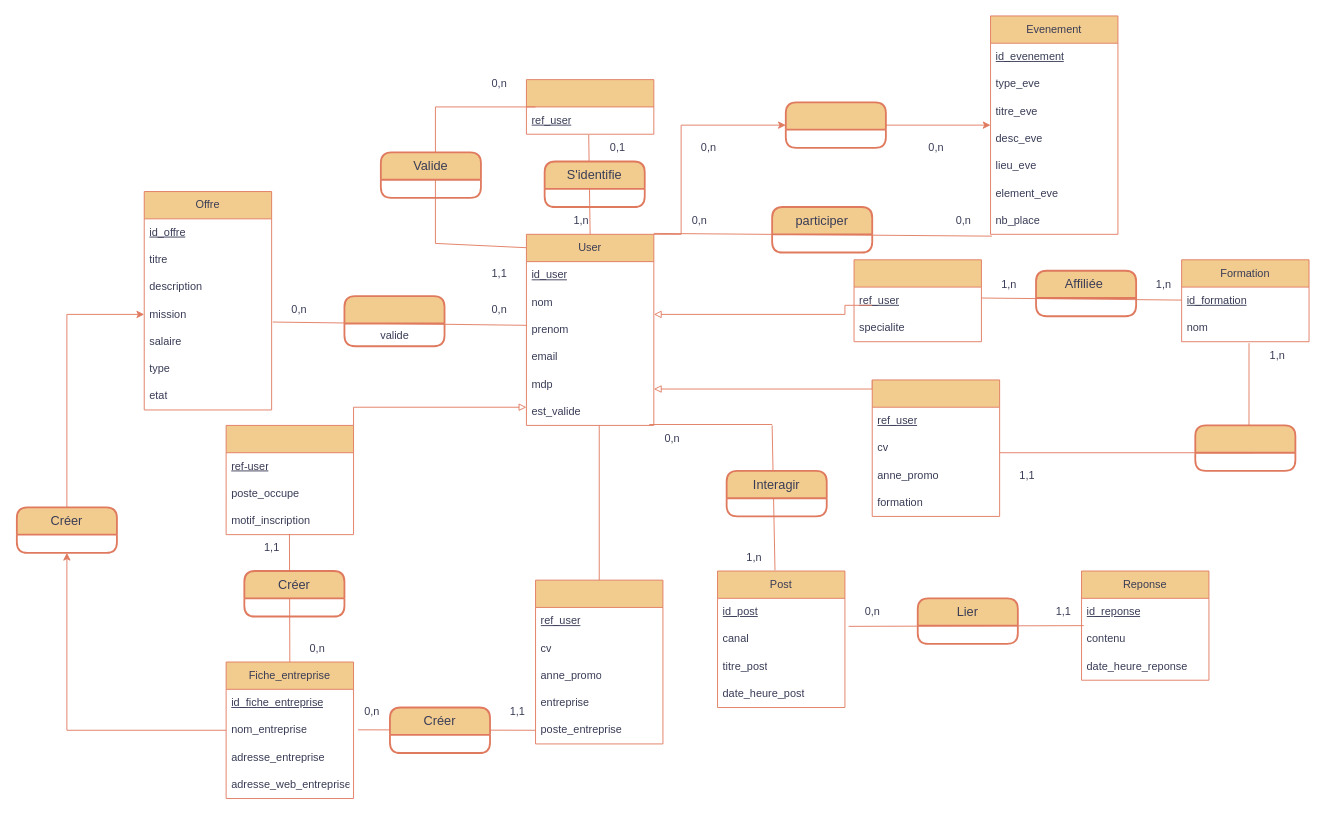
The diagram is 1325 pixels wide and 814 high, and some of its shapes have lost their labels. Here are the shapes that lost their labels. From the top down, the box of each, then its label:
(526, 79, 654, 134): Gestionnaire
(784, 101, 886, 148): gérer
(853, 259, 981, 342): Professeur
(343, 295, 445, 347): postuler
(871, 379, 1000, 516): Etudient
(1194, 424, 1296, 471): Etudie
(225, 425, 354, 535): Partenaire
(535, 579, 663, 744): Alumni
